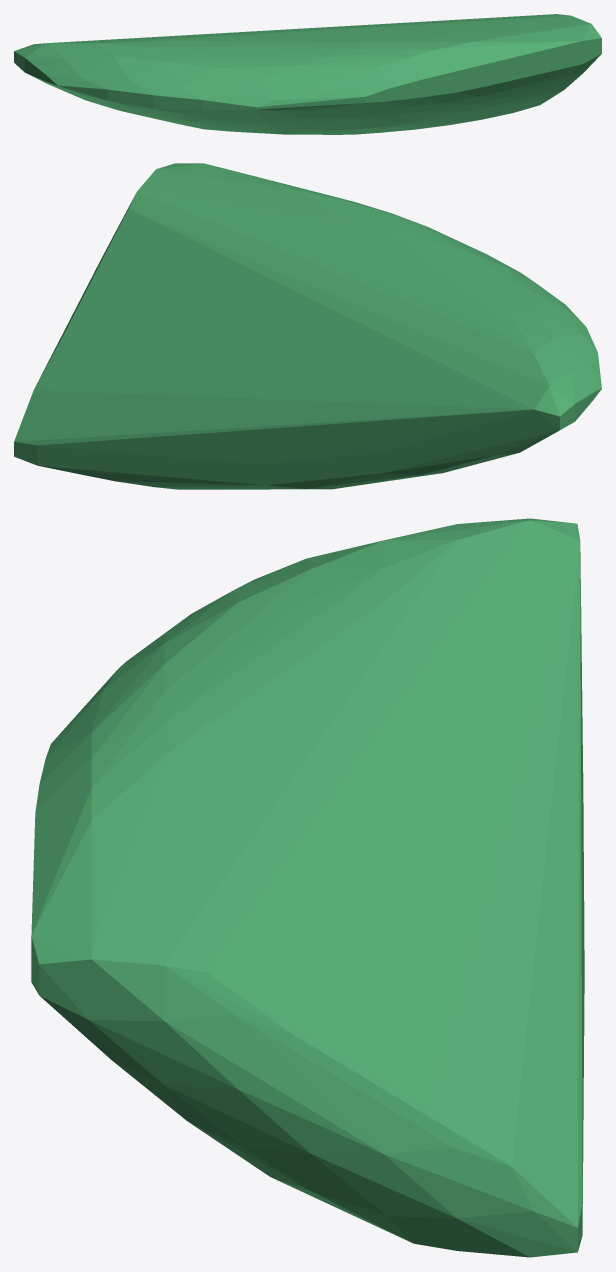
The model's file is right-hip-yaw-0_part_3.obj.
The picture shows the model from 3 angles, top to bottom: view 1: azimuth 30°, elevation 25°; view 2: azimuth 150°, elevation 25°; view 3: azimuth 270°, elevation 25°; orthographic projection. The views are drawn at different scales.
Size of the model in its own units: 0.0205 by 0.00714 by 0.0106.
